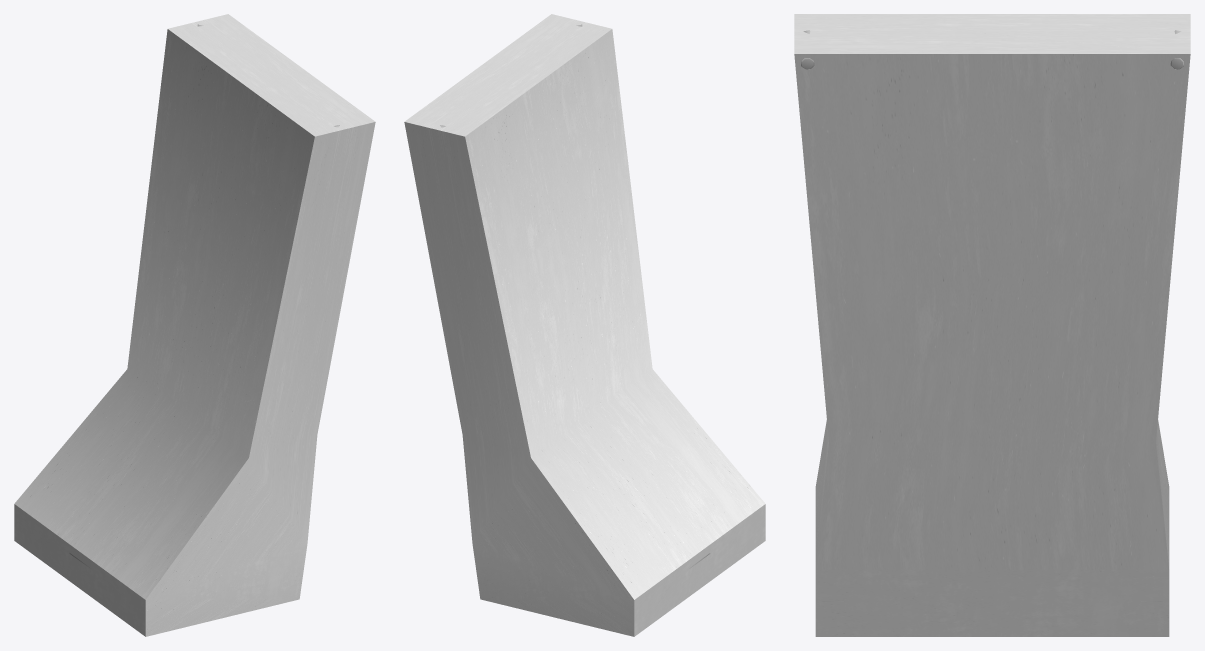
The model's file is si_trolley.DAE.
3 views of the same model, side by side, from view 1: azimuth 30°, elevation 25°; view 2: azimuth 150°, elevation 25°; view 3: azimuth 270°, elevation 25° (orthographic). The views are drawn at different scales.
Parts seen in each view (by area): view 1: Colmesh-1; view 2: Colmesh-1; view 3: Colmesh-1.
Boxes of the visible parts, bbox=[...] form: Colmesh-1: bbox=[14, 14, 375, 636]; Colmesh-1: bbox=[404, 14, 765, 636]; Colmesh-1: bbox=[794, 14, 1190, 636].
Size of the model in its own units: 58.18 by 66.77 by 117.
